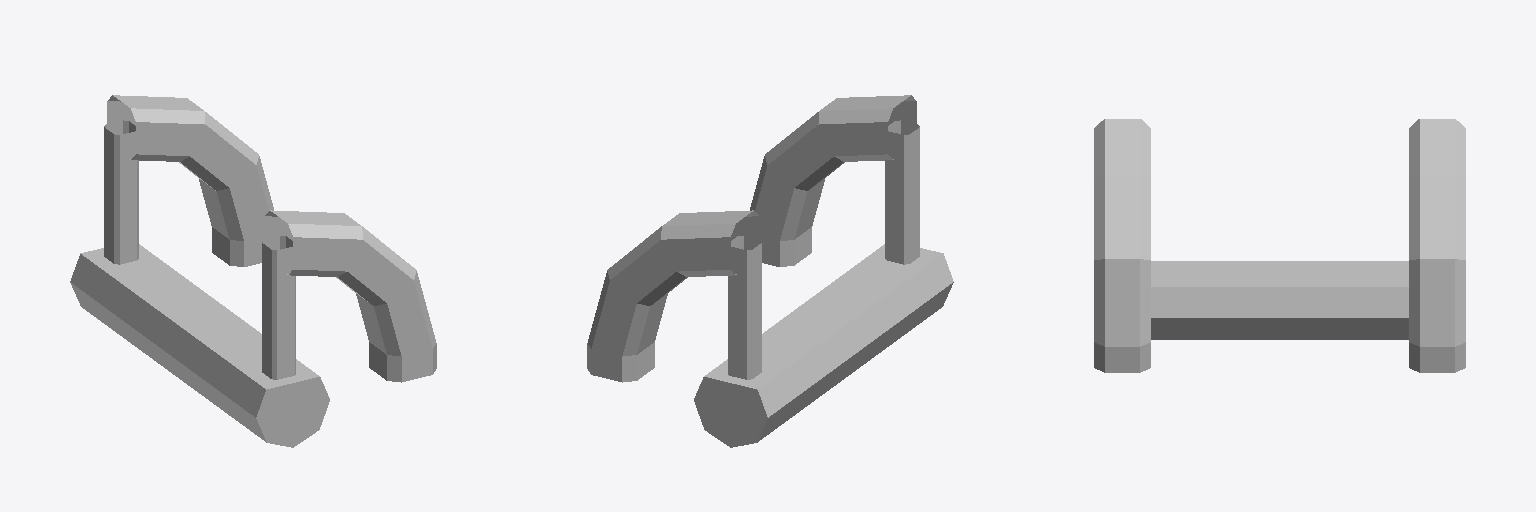
Rendered from Track_Bridge_Start.obj.
3 renders of one model, left to right at view 1: azimuth 30°, elevation 25°; view 2: azimuth 150°, elevation 25°; view 3: azimuth 270°, elevation 25°, orthographic.
Parts seen in each view (by area): view 1: Bridge_Rail, Log_Plank_Bark, Bridge_Rail_Support, Log_Plank_Top, Log_Plank_End; view 2: Bridge_Rail, Log_Plank_Bark, Bridge_Rail_Support, Log_Plank_Top, Log_Plank_End; view 3: Bridge_Rail, Log_Plank_Bark, Log_Plank_Top.
Boxes of the visible parts, <box> form: Bridge_Rail: <box>107,95,436,382</box>; Log_Plank_Bark: <box>70,254,266,442</box>; Bridge_Rail_Support: <box>104,120,295,379</box>; Log_Plank_Top: <box>80,244,319,389</box>; Log_Plank_End: <box>256,377,329,447</box>; Bridge_Rail: <box>587,95,916,382</box>; Log_Plank_Bark: <box>757,254,953,442</box>; Bridge_Rail_Support: <box>728,120,919,379</box>; Log_Plank_Top: <box>704,244,943,389</box>; Log_Plank_End: <box>694,377,767,447</box>; Bridge_Rail: <box>1094,119,1465,372</box>; Log_Plank_Bark: <box>1151,287,1408,339</box>; Log_Plank_Top: <box>1151,261,1408,286</box>.
Bounding box in the file's own units: 0.75 × 0.85 × 1.3.